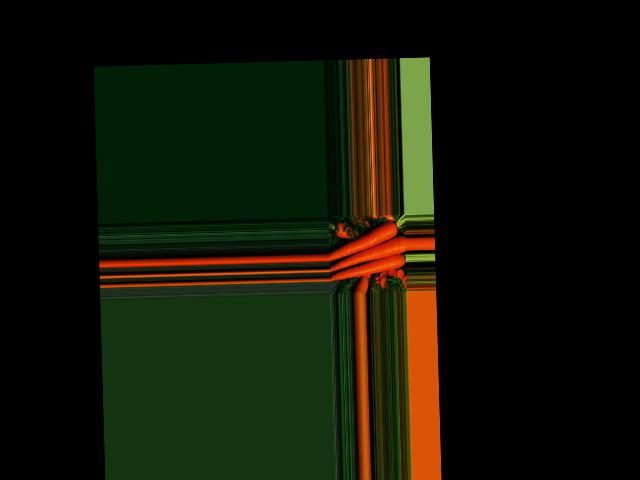carrot: (329, 219, 397, 261)
